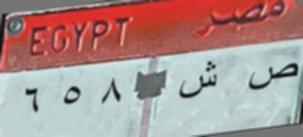5: (60, 82, 85, 113)
6: (21, 81, 45, 121)
8: (100, 75, 124, 107)
saad: (246, 58, 299, 93)
sheen: (177, 61, 220, 105)
